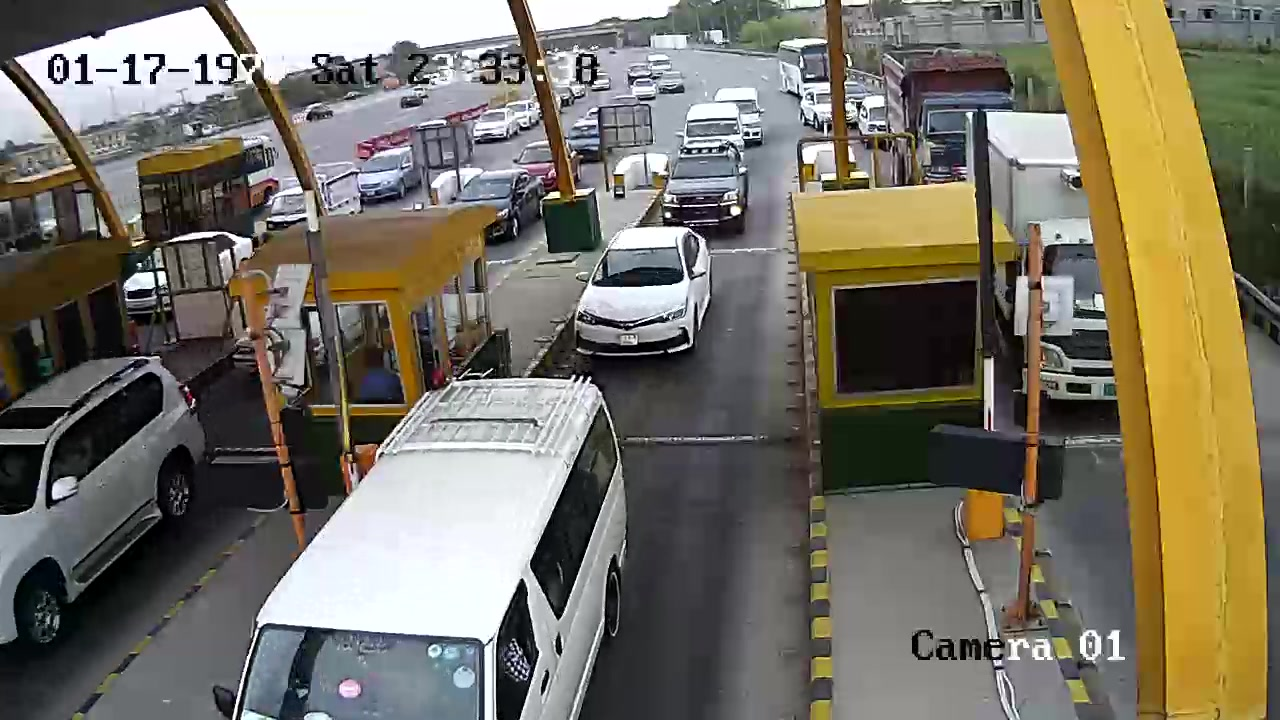F1: (572, 228, 720, 361)
